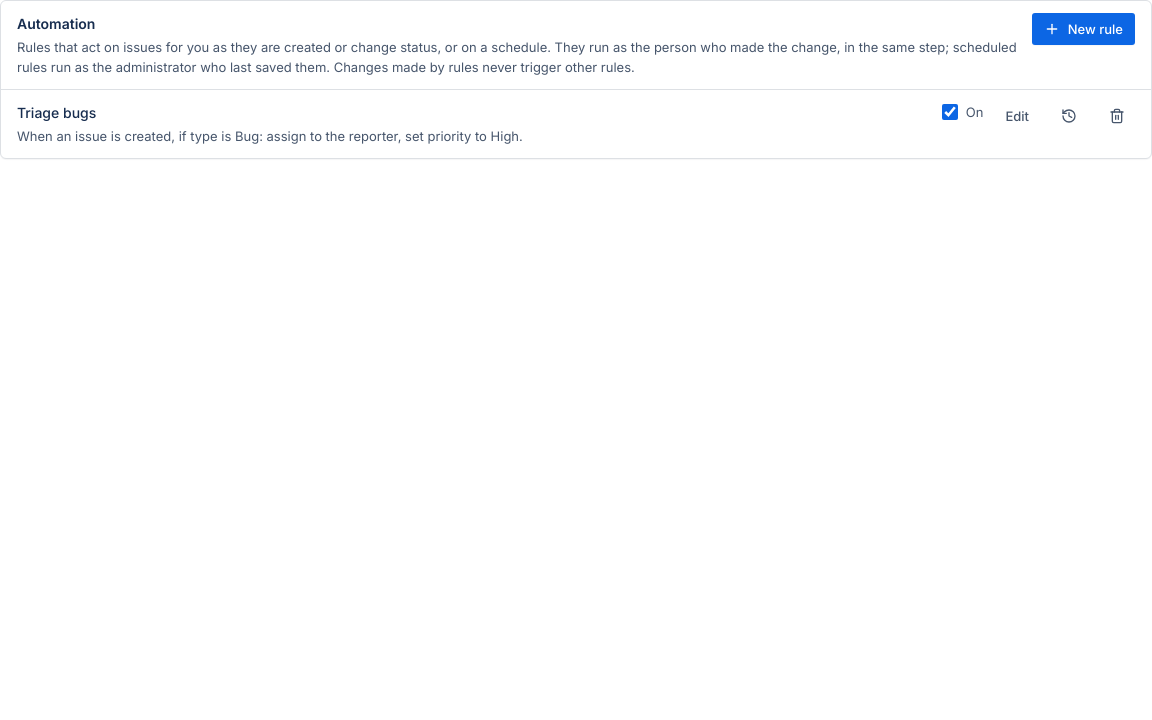
Test case: automation rules › shows what a rule did recently, including why it was skipped
The width and height of the screenshot is (1152, 720).
Step 1. Click the button named "Recent runs of Triage bugs" → (1069, 116), box [1051,102,1087,130]
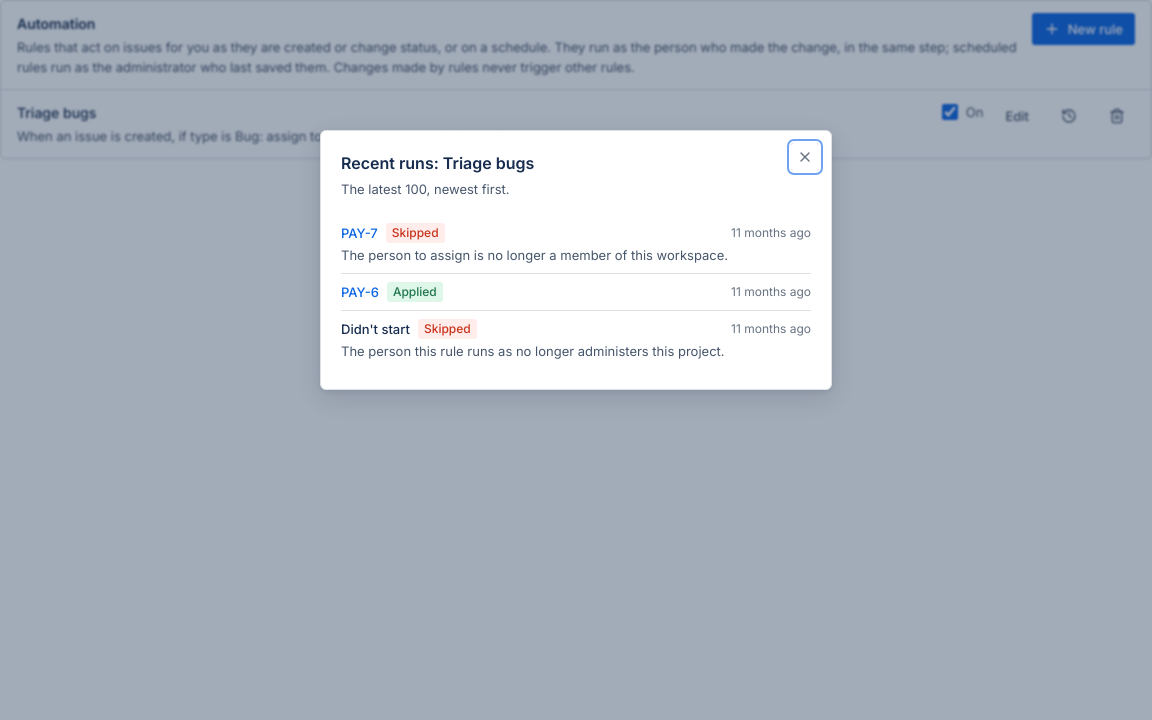
Expected: the text "Skipped" is shown 2 times, [386,223,445,243]; [418,319,477,339]
Expected: the text "no longer a member" is shown, [341,247,728,263]
Expected: the text "Applied" is shown, [387,282,443,302]
